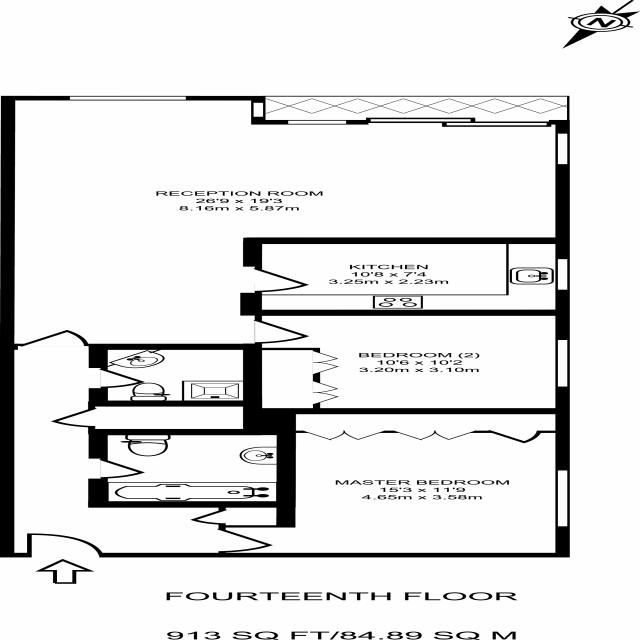DOOR: (240, 265, 313, 295), (25, 532, 106, 557), (13, 328, 92, 350), (251, 319, 313, 344), (218, 528, 276, 553), (88, 366, 151, 389), (88, 457, 151, 479)
ROOM: (0, 95, 571, 350), (218, 408, 571, 558), (240, 309, 571, 414), (239, 237, 571, 316)
SLIDING DOOR: (364, 117, 552, 127)
WINDOW: (554, 470, 571, 527), (554, 340, 571, 387), (67, 95, 188, 101), (554, 258, 571, 291), (554, 133, 571, 165), (285, 120, 348, 125), (250, 102, 266, 117)
